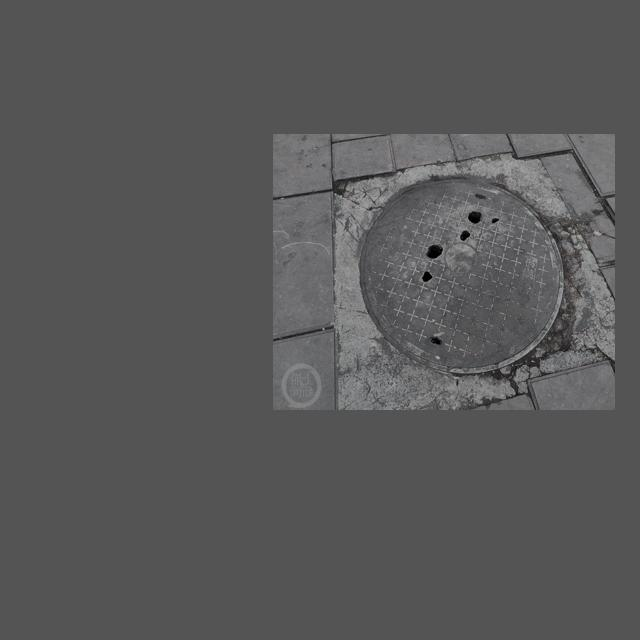circle: (325, 150, 607, 403)
